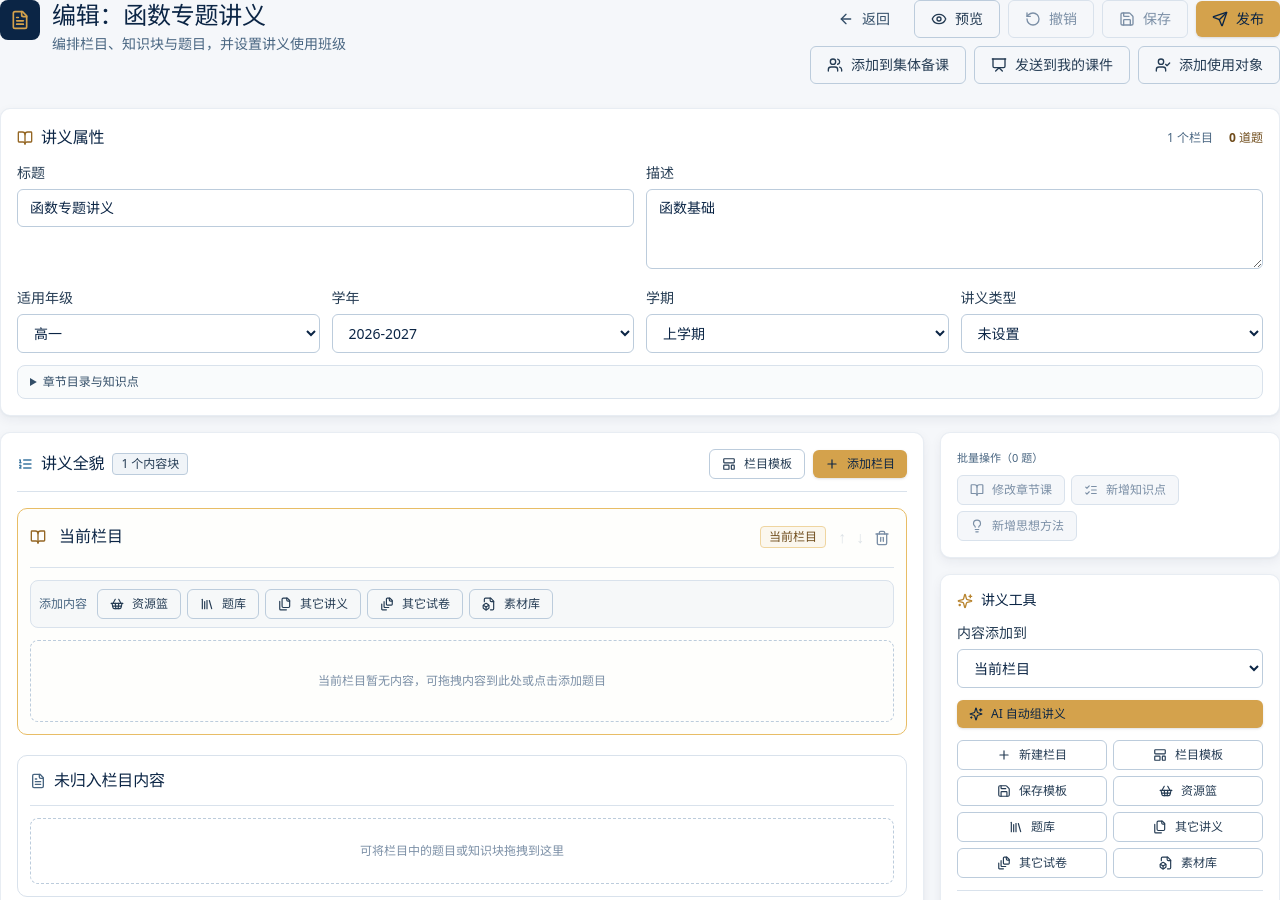
Test: LectureEditorPage courseware action › shows another lecture's selectable contents in the right pane
Click the button "其它讲义" in the row of "添加内容" at (313, 604), box [265,589,361,619]
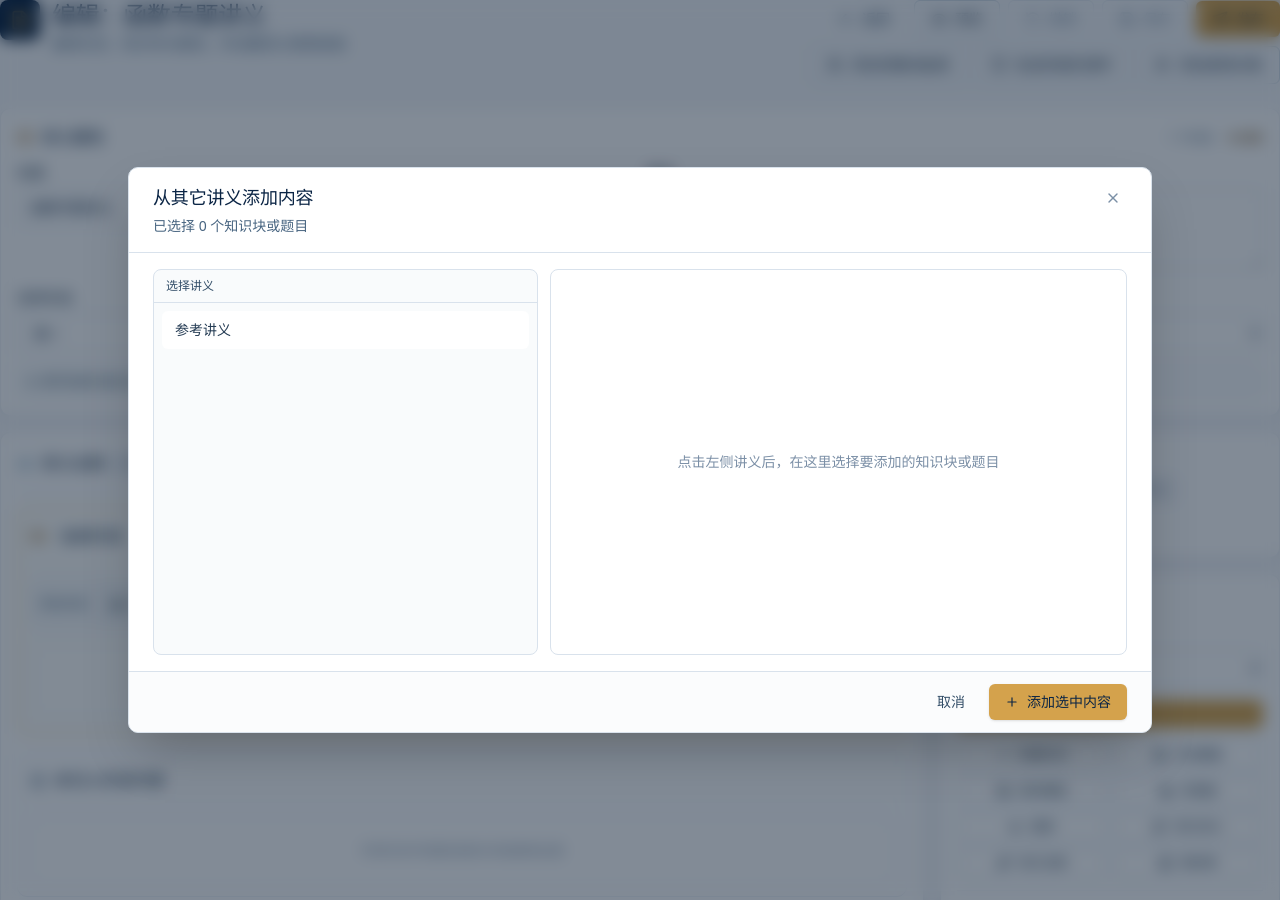
Check: the text "选择讲义" is shown, box [154,270,537,303]
Check: the text "点击左侧讲义后，在这里选择要添加的知识块或题目" is shown, box [677,452,999,471]
Click the button "参考讲义" at (203, 330), box [162,311,529,349]
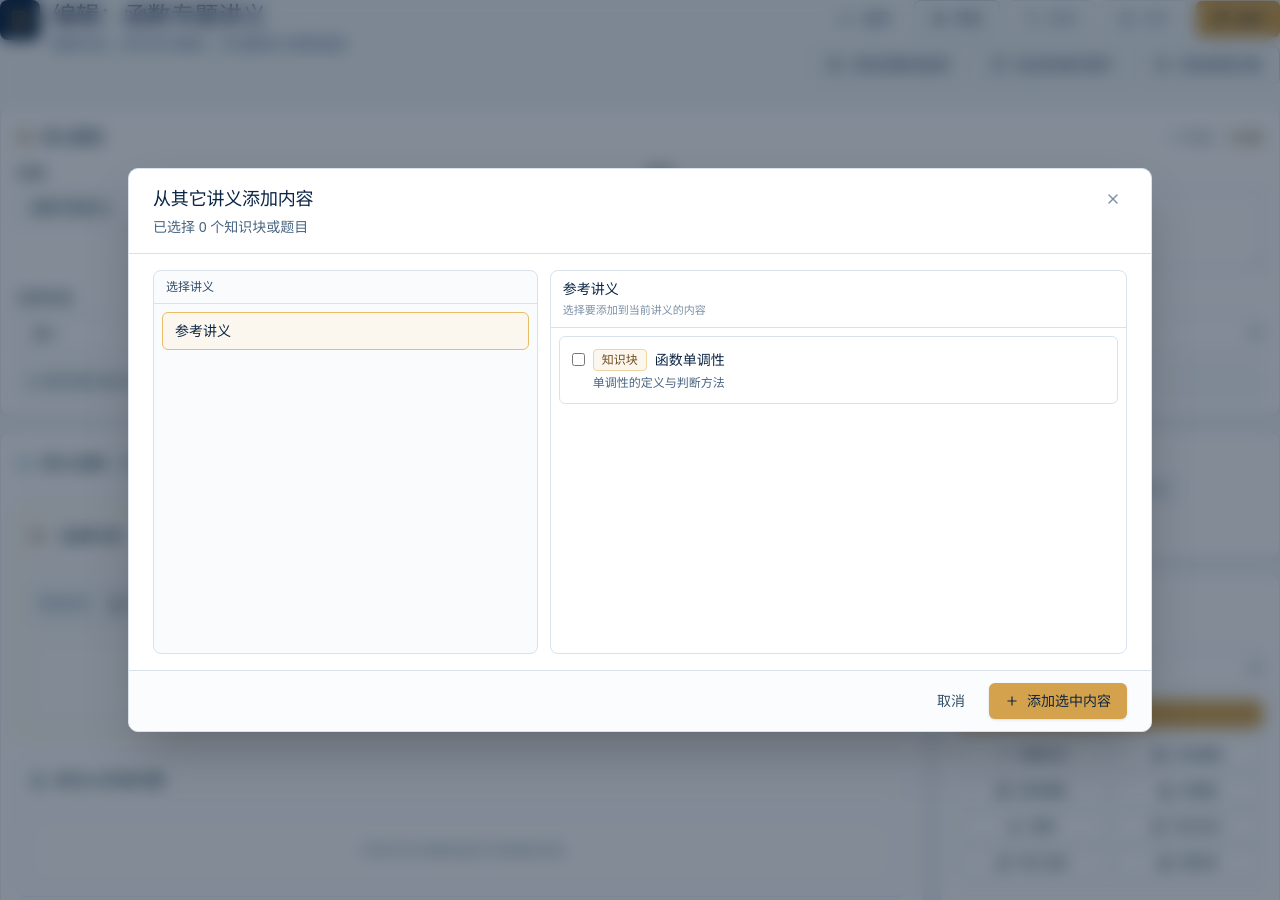
Check: the text "函数单调性" is shown, box [655,350,725,369]
Check: the text "单调性的定义与判断方法" is shown, box [593,374,725,391]
Check: the text "点击左侧讲义后，在这里选择要添加的知识块或题目" is gone
